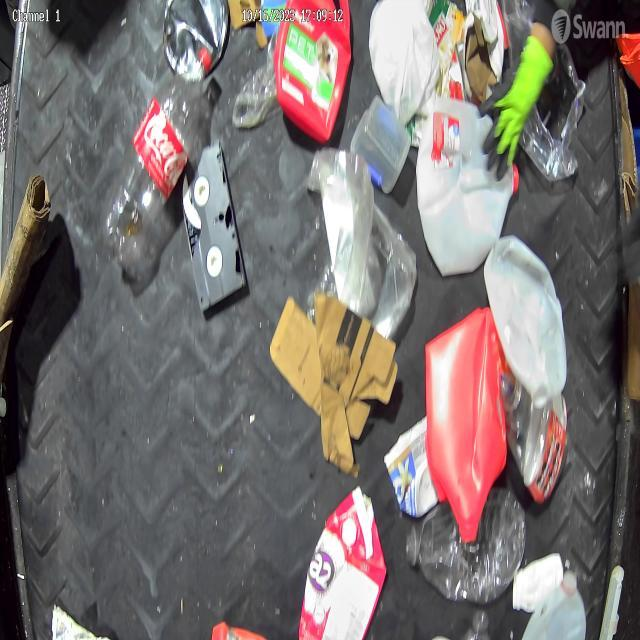can: (160, 0, 227, 72)
milk_jug: (417, 100, 512, 269), (484, 234, 567, 388)
non_white_jug: (425, 307, 504, 539), (310, 487, 384, 638), (274, 1, 350, 146)
plastic_bottle: (108, 48, 216, 256)
